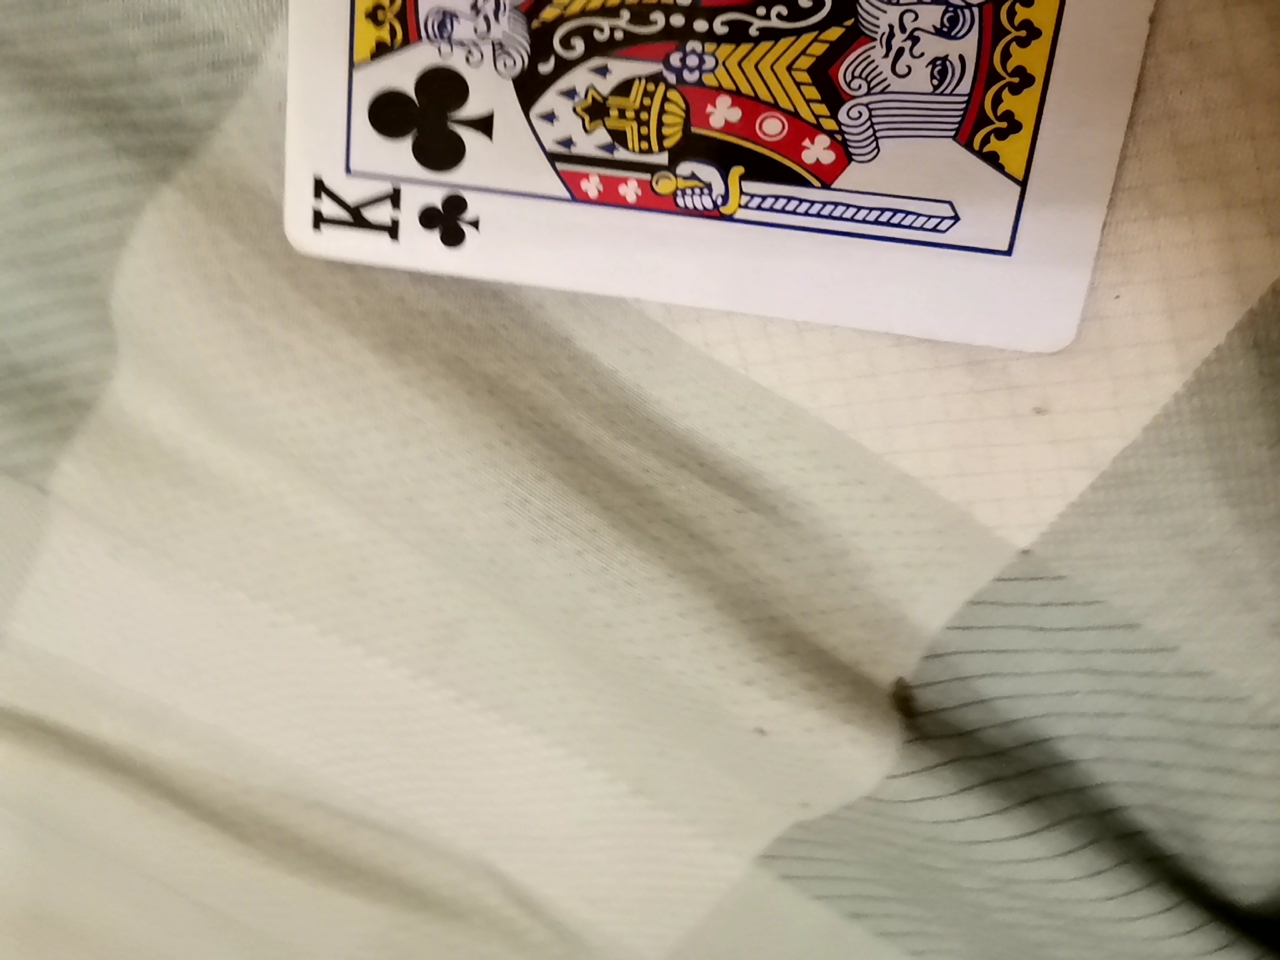mh k: (267, 0, 1153, 336)
